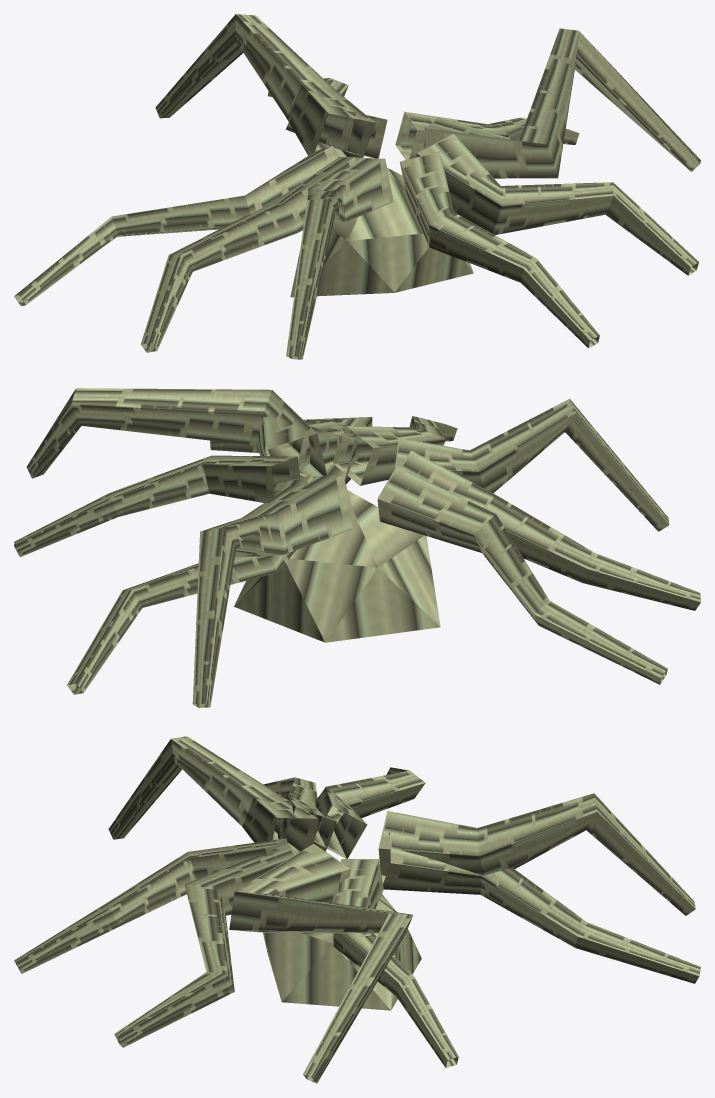
Rendered from SM_Forest_RootCluster_A_210x190x40.fbx.
The picture shows the model from 3 angles, top to bottom: view 1: azimuth 30°, elevation 25°; view 2: azimuth 150°, elevation 25°; view 3: azimuth 270°, elevation 25°; orthographic projection. The views are drawn at different scales.
Parts seen in each view (by area): view 1: SM_Forest_RootCluster_A_210x190x40.007; view 2: SM_Forest_RootCluster_A_210x190x40.007; view 3: SM_Forest_RootCluster_A_210x190x40.007.
Part boxes in pixels (x1,y1,x2,y2): SM_Forest_RootCluster_A_210x190x40.007: [14, 14, 700, 359]; SM_Forest_RootCluster_A_210x190x40.007: [14, 388, 700, 707]; SM_Forest_RootCluster_A_210x190x40.007: [14, 736, 700, 1083].
Bounding box in the file's own units: 2.09 × 0.5299 × 1.92.
